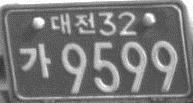2: (117, 10, 137, 36)
3: (97, 11, 116, 37)
5: (92, 40, 121, 94)
9: (150, 39, 179, 93), (120, 40, 148, 94), (61, 41, 87, 96)
가: (18, 41, 52, 81)
대전_O: (49, 11, 95, 35)
